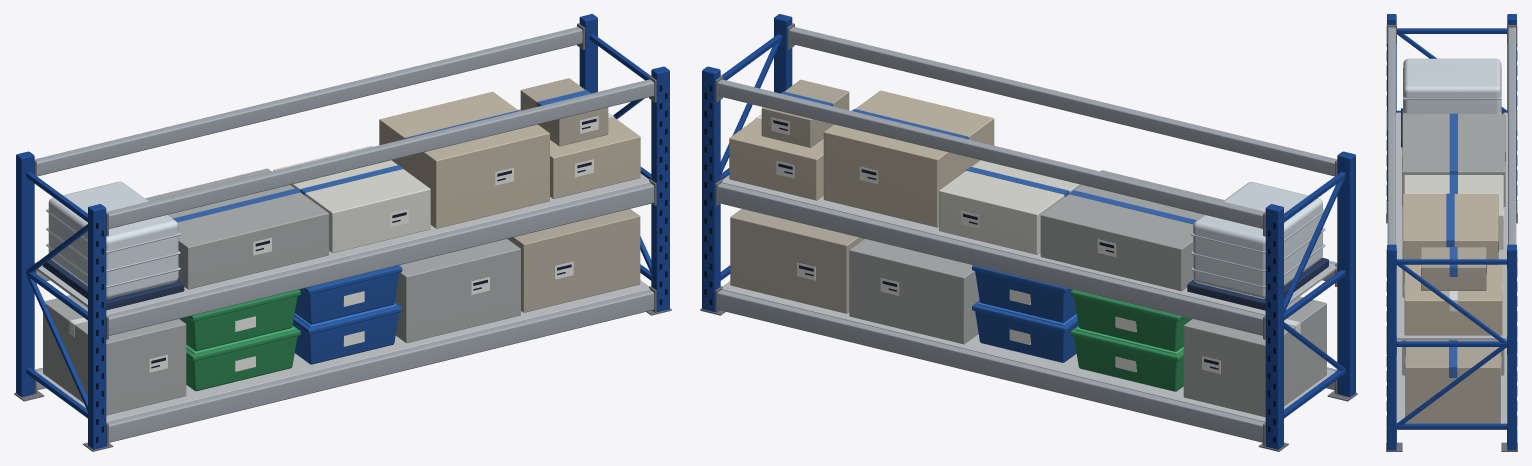
Rendered from rack_a.glb.
The picture shows the model from 3 angles, left to right: view 1: azimuth 30°, elevation 25°; view 2: azimuth 150°, elevation 25°; view 3: azimuth 270°, elevation 25°; orthographic projection. The views are drawn at different scales.
Parts seen in each view (by area): view 1: rack_a; view 2: rack_a; view 3: rack_a.
Part boxes in pixels (x1,y1,x2,y2): rack_a: (14,14,671,451); rack_a: (700,14,1357,451); rack_a: (1386,14,1517,451).
Bounding box in the file's own units: 3.4 × 1.35 × 0.8.
